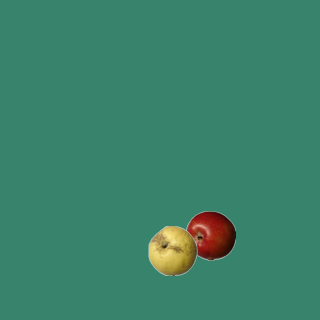Apple Braeburn: (185, 210, 235, 260)
Apple Golden 1: (147, 225, 197, 275)
